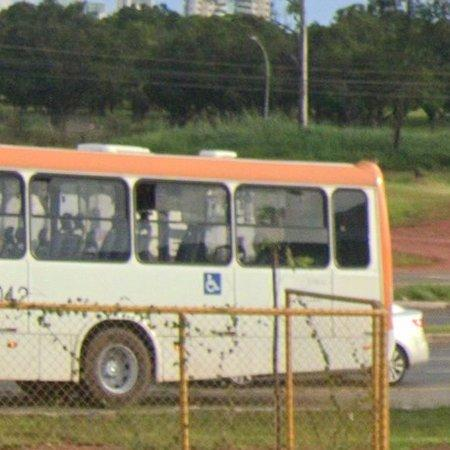buses: (294, 317, 372, 373)
